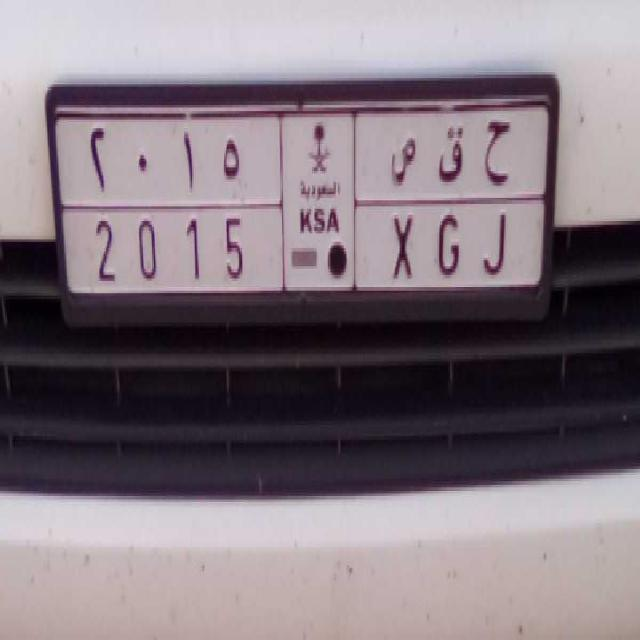license_plate: (82, 198, 522, 289)
